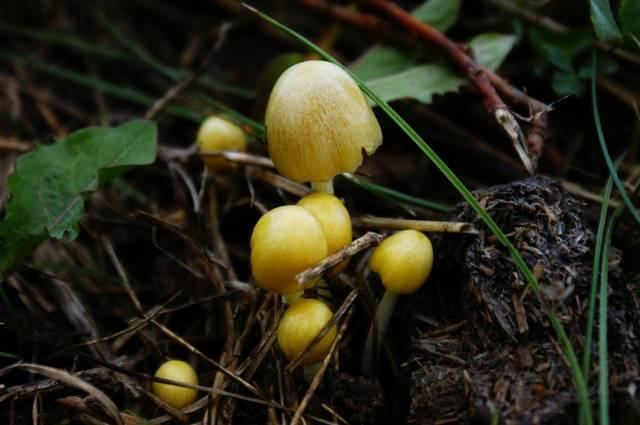edible_mushroom: (263, 58, 383, 192), (249, 203, 328, 295), (364, 221, 442, 302), (268, 293, 347, 372), (147, 355, 204, 408)
